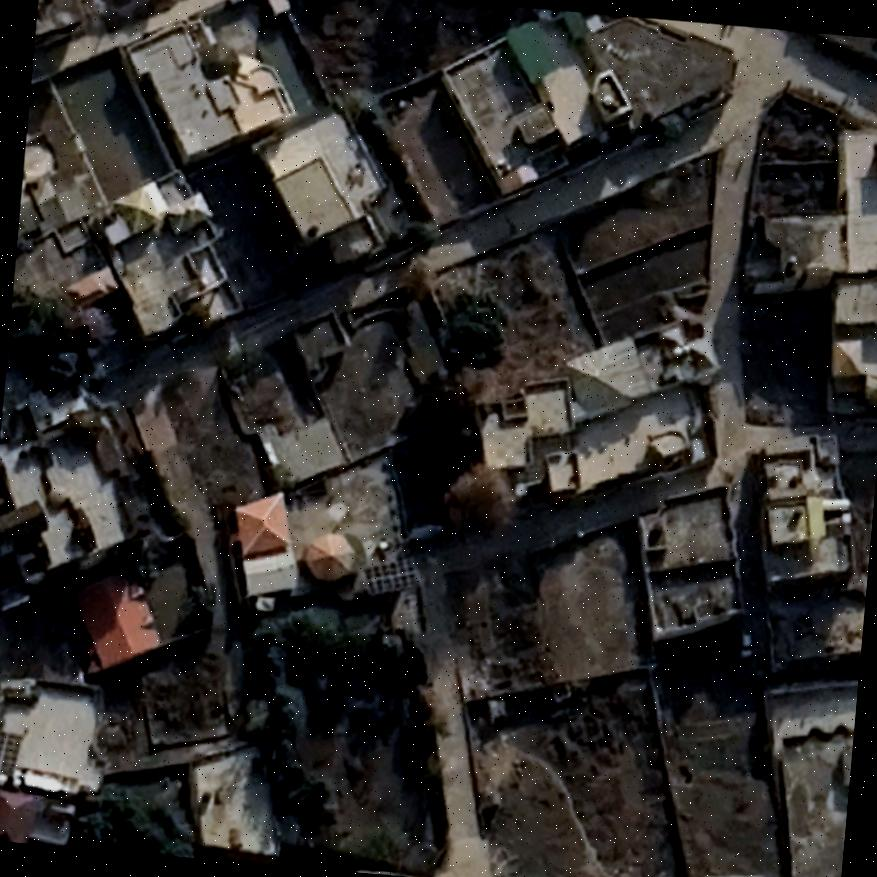Solarpanel: (359, 553, 418, 598), (0, 721, 24, 779)
